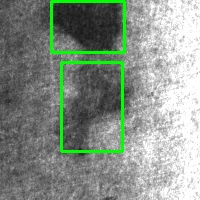patches: (61, 62, 122, 151), (51, 1, 124, 52)
